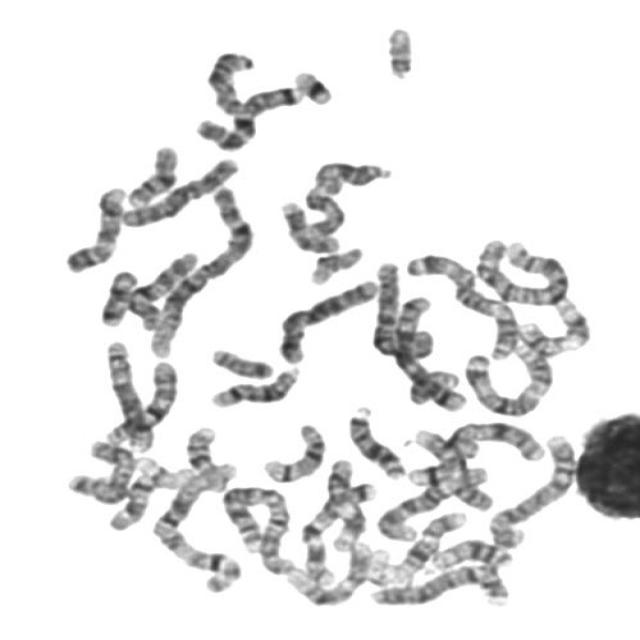A1: (144, 180, 258, 358), (144, 454, 248, 594)
A2: (215, 479, 297, 576), (469, 231, 572, 307)
A3: (401, 247, 521, 361), (457, 337, 558, 419)
B4: (482, 429, 582, 550), (365, 559, 512, 609)
B5: (272, 272, 382, 366), (389, 289, 469, 412)
C10: (101, 356, 181, 448), (122, 246, 202, 332)
C11: (514, 293, 596, 363), (321, 454, 370, 553)
C12: (280, 536, 376, 608), (387, 505, 471, 580)
C6: (372, 461, 492, 543), (365, 254, 438, 360)
C7: (296, 475, 380, 591), (189, 79, 306, 152)
C8: (117, 152, 243, 229), (100, 334, 159, 453)
C9: (407, 422, 494, 512), (59, 181, 129, 274)
D13: (343, 402, 410, 481), (425, 532, 518, 572)
D14: (204, 359, 304, 410), (258, 416, 330, 484)
D15: (198, 47, 260, 121), (310, 155, 397, 197)
E16: (122, 139, 183, 210), (180, 421, 233, 494)
E17: (403, 431, 480, 488), (274, 203, 344, 258)
E18: (96, 264, 141, 328), (205, 342, 276, 381)
F19: (130, 450, 198, 490), (305, 244, 366, 286)
F20: (404, 364, 464, 405), (114, 478, 166, 524)
G21: (287, 64, 338, 106), (302, 180, 346, 213)
G22: (380, 20, 419, 80), (301, 206, 353, 242)
X: (62, 432, 140, 507), (436, 417, 548, 462)
